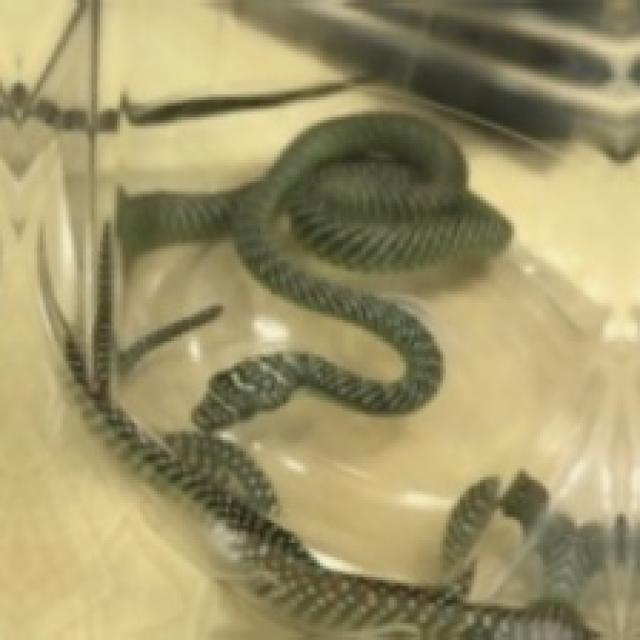paradise tree snake: (40, 111, 637, 637), (117, 114, 509, 429)
